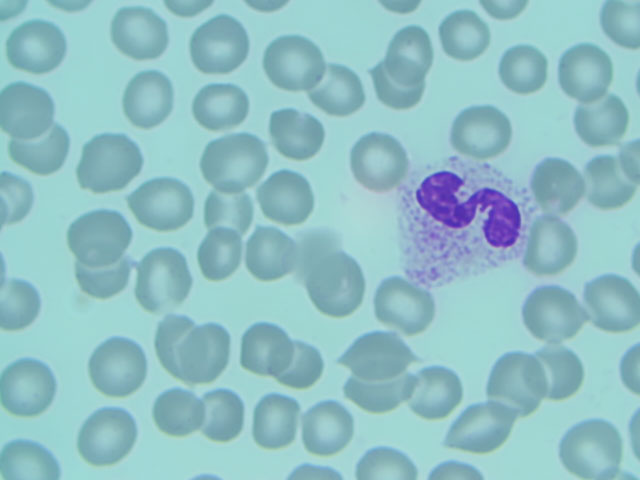RBC: (6, 19, 68, 76), (10, 124, 72, 181), (78, 135, 140, 192), (114, 72, 176, 129), (110, 5, 172, 62), (187, 15, 249, 72), (189, 75, 251, 132), (201, 136, 263, 193), (196, 181, 258, 238), (186, 221, 248, 278), (132, 251, 194, 308), (66, 206, 128, 263), (131, 176, 193, 233), (264, 34, 326, 91), (306, 62, 368, 119), (264, 106, 326, 163), (258, 168, 320, 225), (245, 229, 307, 286), (310, 256, 372, 313), (233, 318, 295, 375), (181, 324, 243, 381), (91, 334, 153, 391), (142, 301, 204, 358), (3, 359, 65, 416), (77, 408, 139, 465), (142, 384, 204, 441), (191, 384, 253, 441), (235, 391, 297, 448), (275, 341, 337, 398), (298, 396, 360, 453), (348, 371, 410, 428), (344, 323, 406, 380), (375, 276, 437, 333), (348, 130, 410, 187), (367, 67, 429, 124), (375, 21, 437, 78), (433, 5, 495, 62), (493, 40, 555, 97), (449, 104, 511, 161), (528, 157, 590, 214), (528, 218, 590, 275), (523, 288, 585, 345), (535, 344, 597, 401), (489, 357, 551, 414), (445, 396, 507, 453), (405, 368, 467, 425), (561, 418, 623, 475), (578, 271, 640, 328), (578, 153, 640, 210), (568, 93, 630, 150), (555, 40, 617, 97), (1, 83, 62, 140), (1, 277, 62, 334), (1, 423, 62, 480)
WBC: (400, 156, 530, 282)
